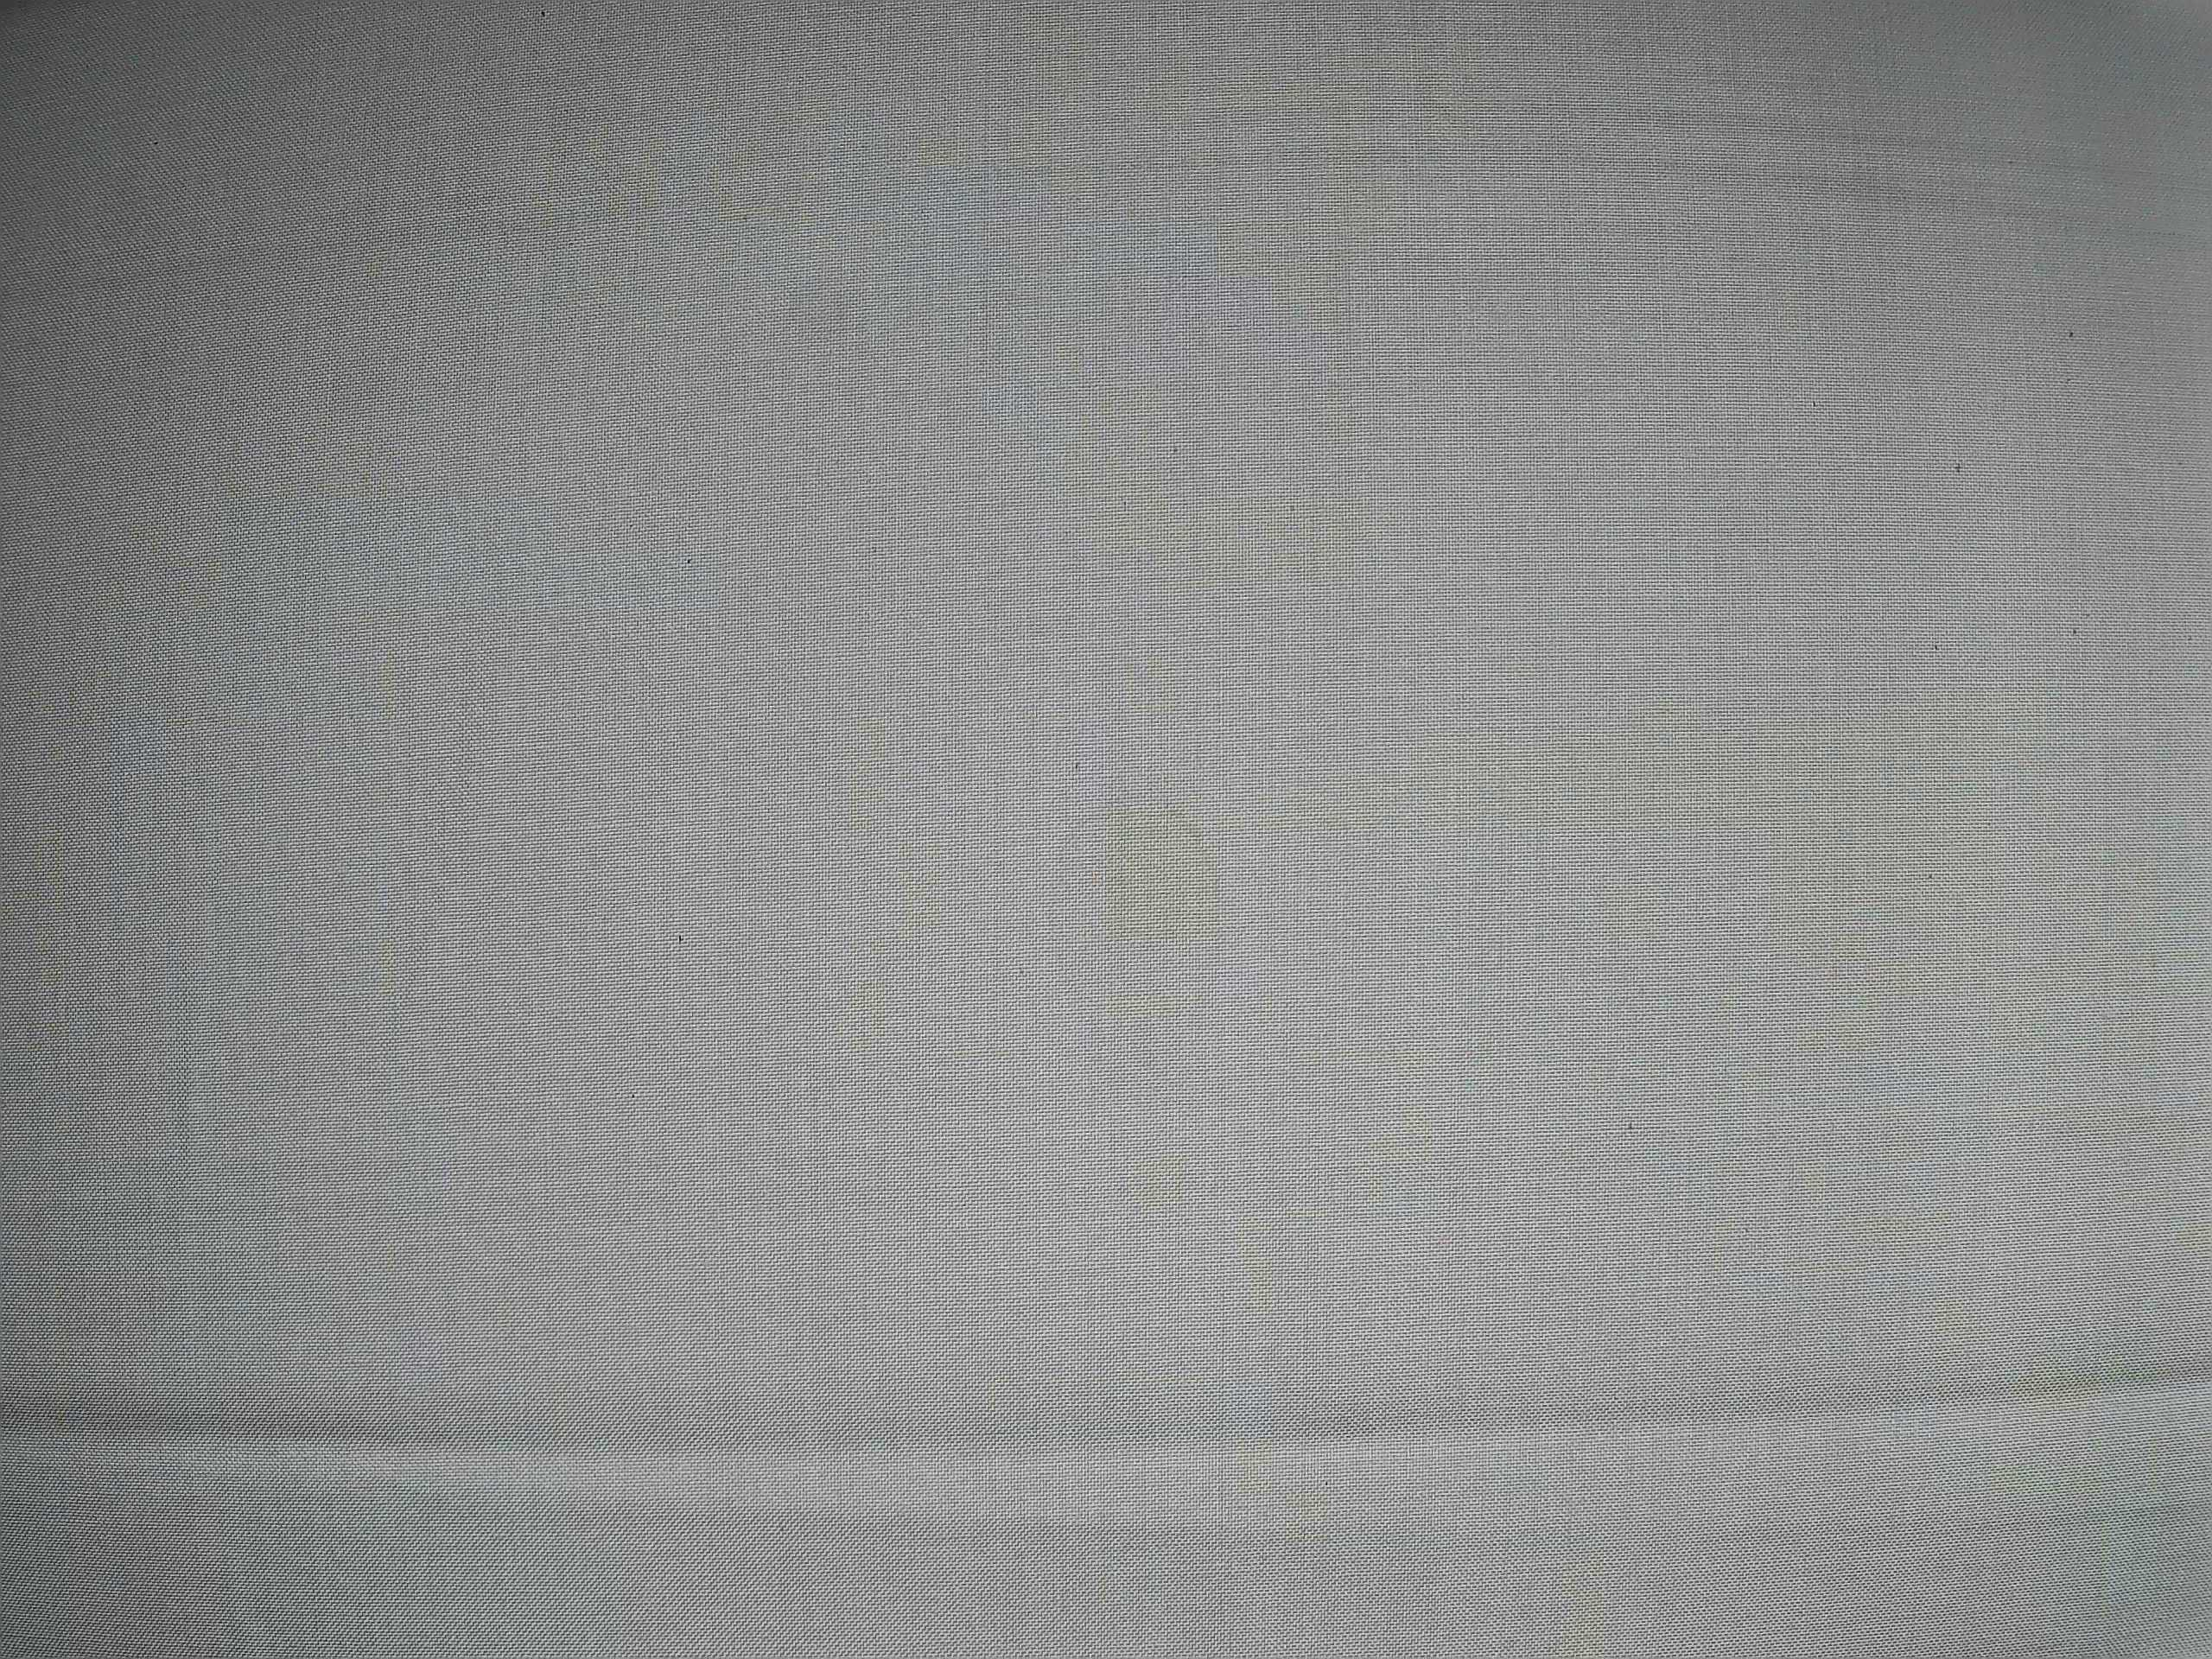others: (1564, 699, 2062, 1164), (1036, 781, 1259, 1063)
